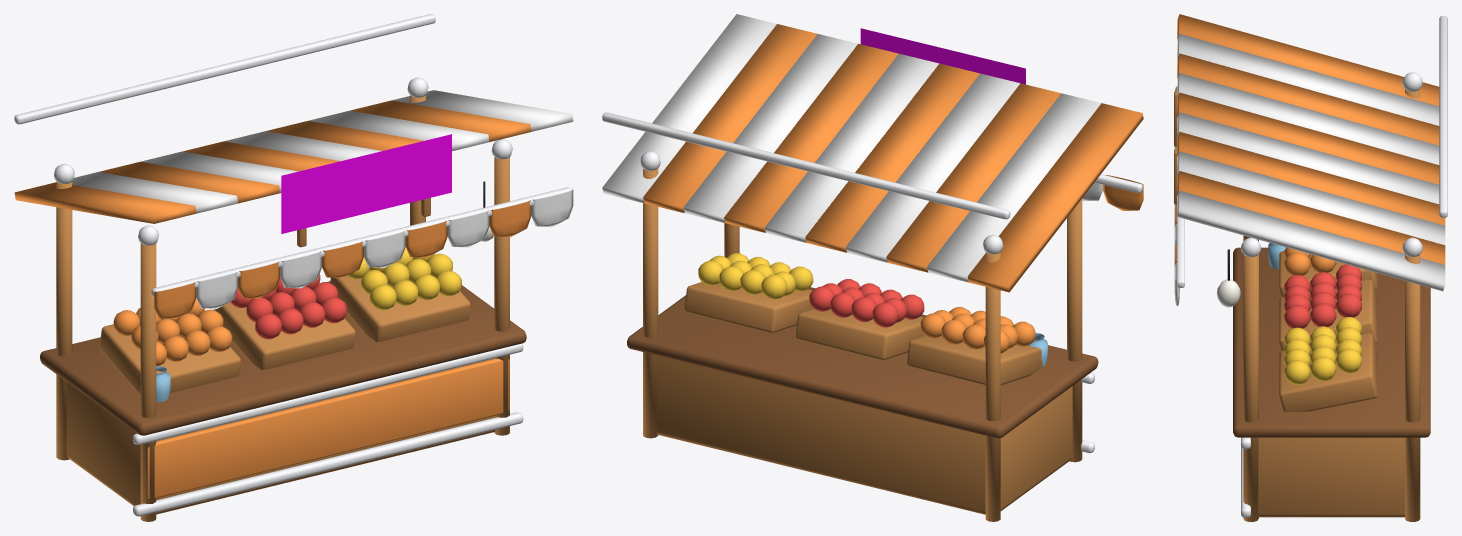
The model's file is stall_fruit.glb.
3 views of the same model, side by side, from view 1: azimuth 30°, elevation 25°; view 2: azimuth 150°, elevation 25°; view 3: azimuth 270°, elevation 25° (orthographic). The views are drawn at different scales.
Visible parts, largest first — view 1: stall_fruit; view 2: stall_fruit; view 3: stall_fruit.
Boxes of the visible parts, x1,y1,x2,y2 form: stall_fruit: (14,14,573,521); stall_fruit: (602,14,1143,521); stall_fruit: (1174,14,1447,521).
Size of the model in its own units: 2.7 by 2.16 by 1.6.
